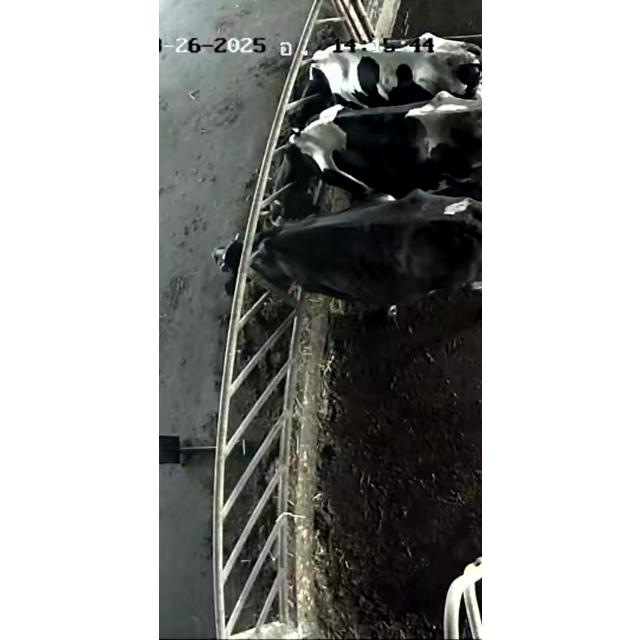eat: (192, 206, 351, 296), (198, 110, 362, 190), (242, 33, 404, 106)
